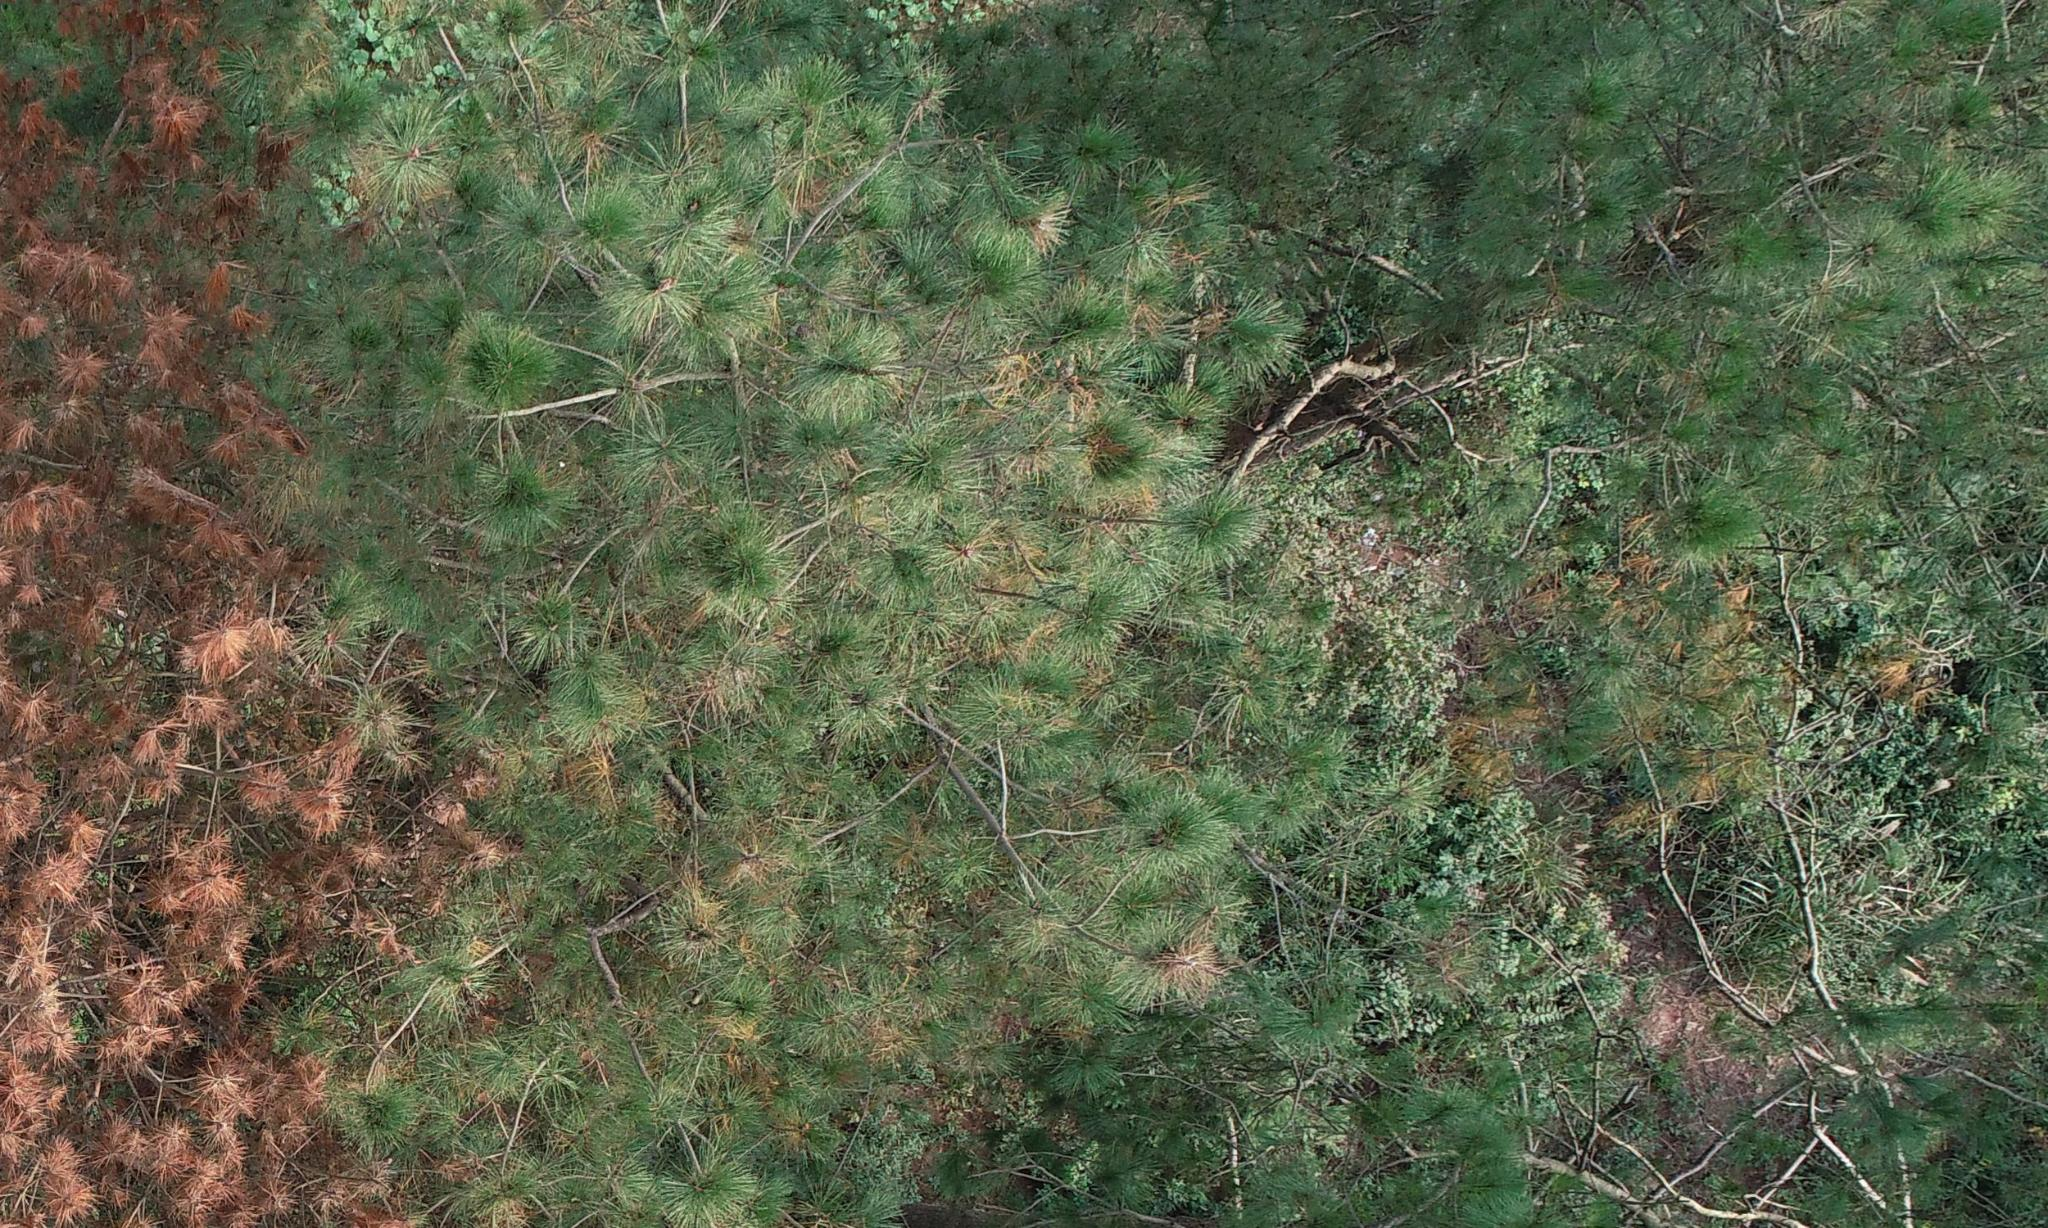heavy: (13, 16, 434, 1206)
light: (531, 615, 1226, 1098), (1453, 488, 1779, 857)
